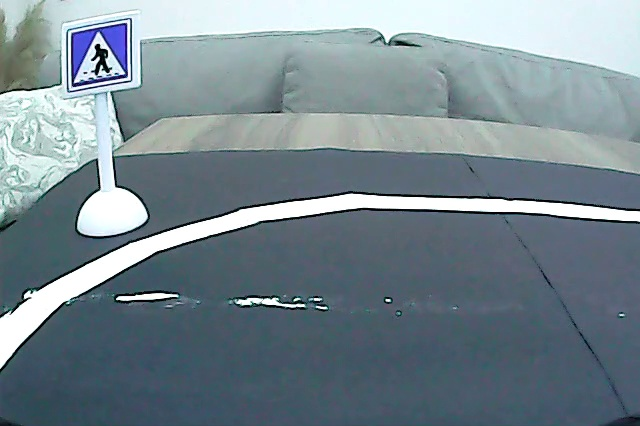pedestrian crossing: (64, 20, 136, 91)
